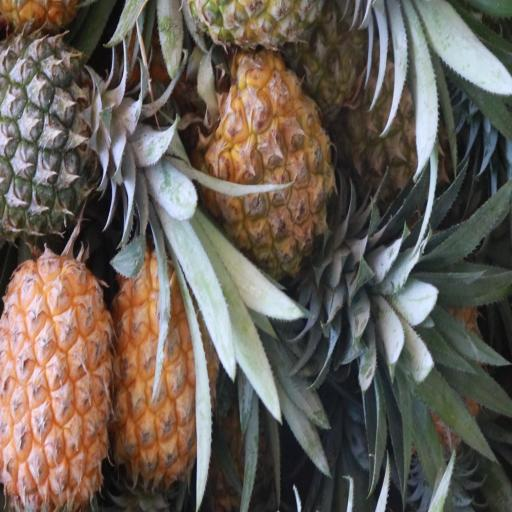------------------------------: (345, 32, 448, 198)
Pineapple - v8 v1: (0, 254, 112, 510), (210, 54, 328, 270), (114, 246, 212, 480)
